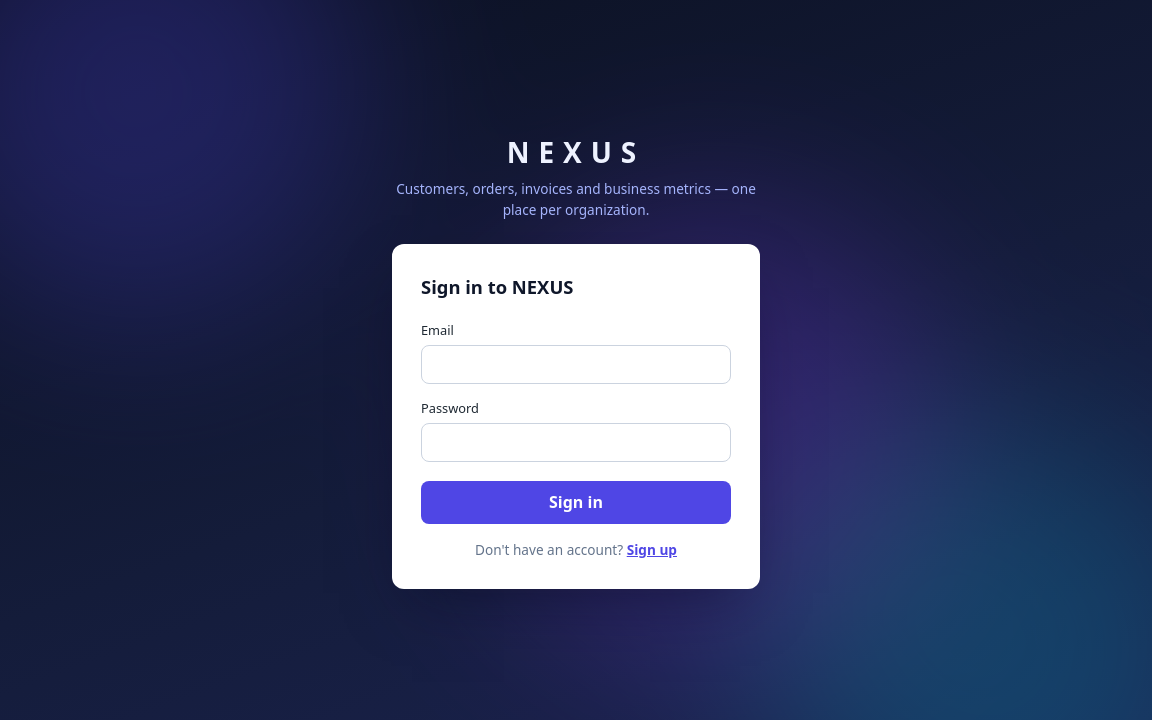
Test: shows an error when credentials are rejected
Type "user@example.com" into the field labelled "Email" at (576,365), box 421,345 -> 731,384
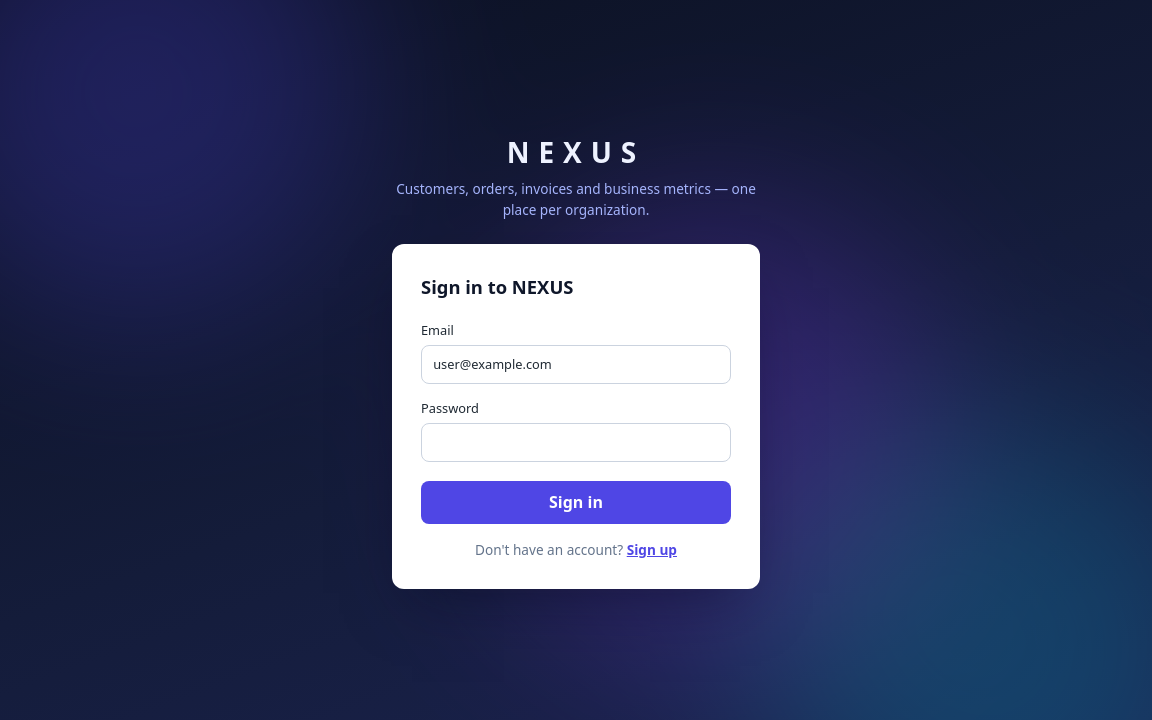
Type "wrong" into the password field labelled "Password" at (576,443), box 421,423 -> 731,462
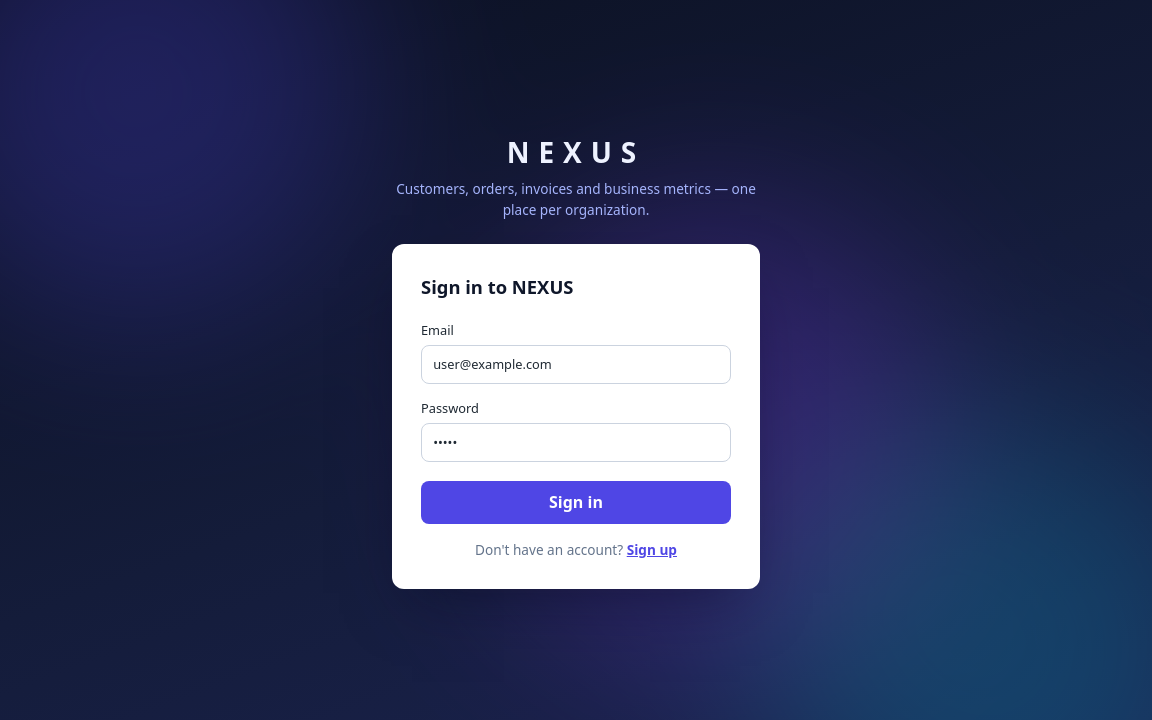
Click the button "Sign in" at (576,502), box 421,480 -> 731,524
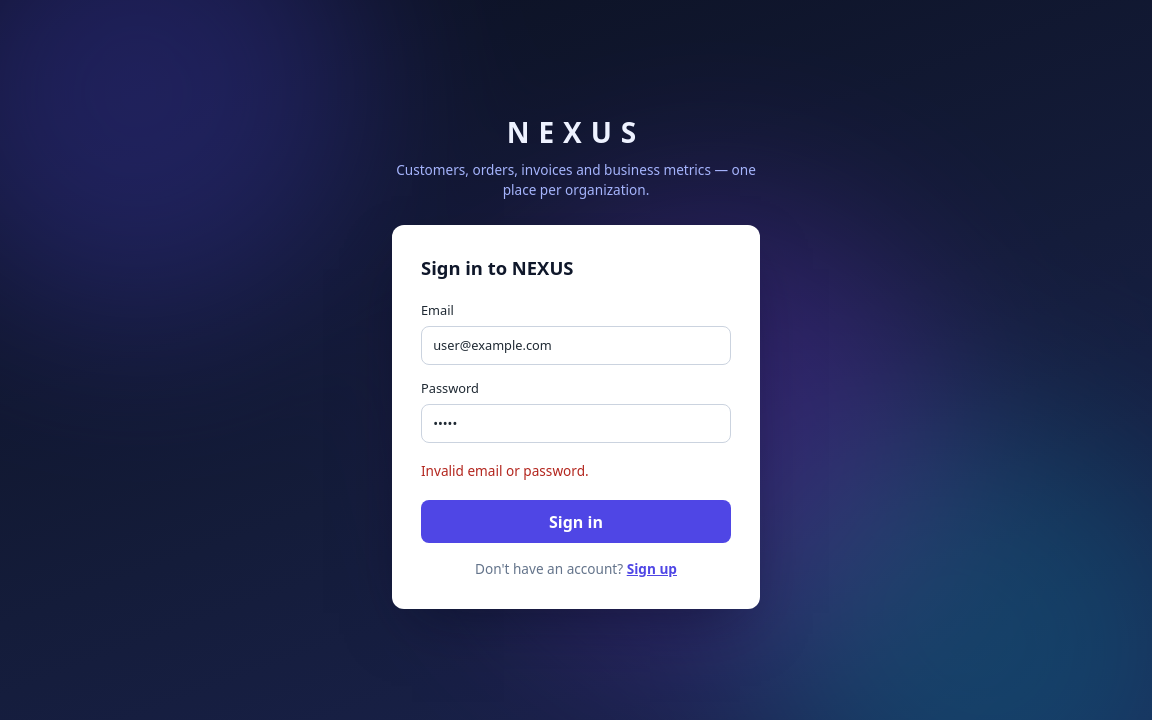
Expected: the message shows "Invalid email or password", 421,461 -> 589,480
